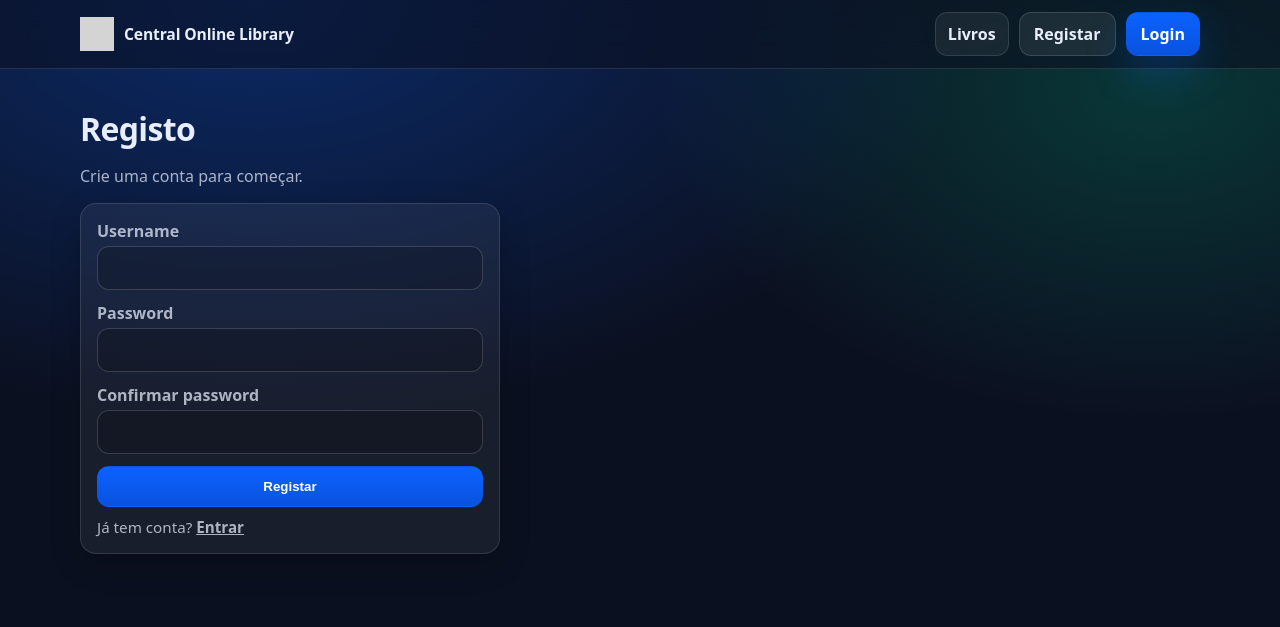
Scenario: Register view › shows friendly message when registration is disabled
Type "alice" into the field labelled "Username" at (290,268), box top-left (97, 246), bottom-right (483, 290)
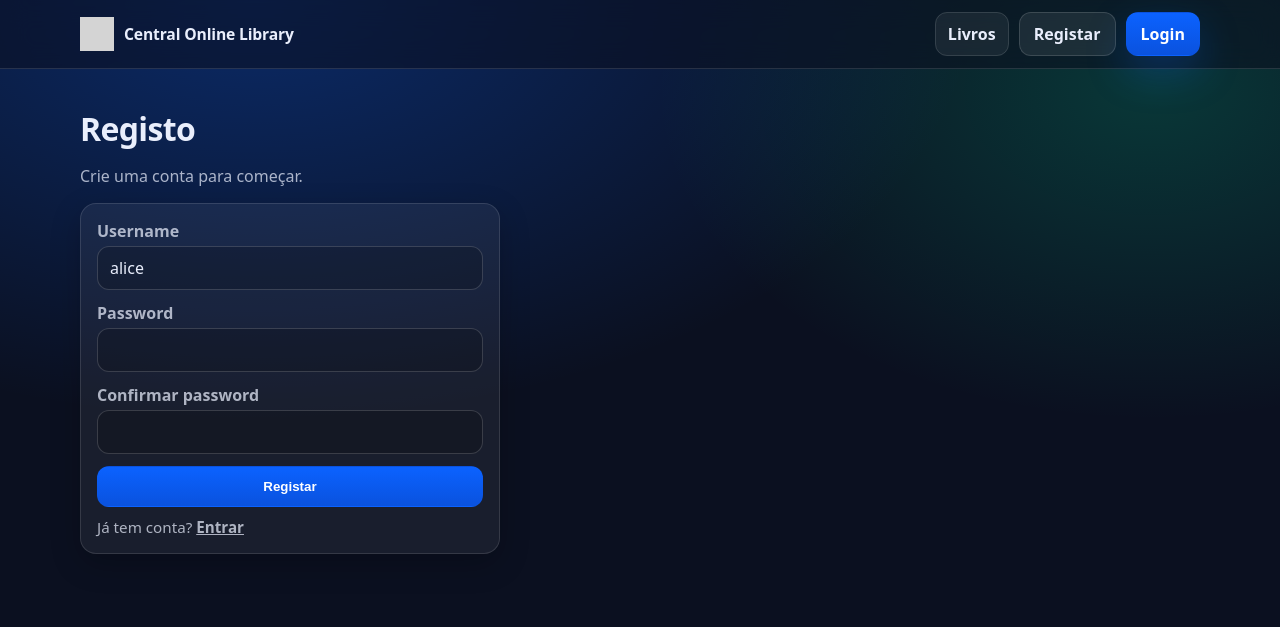
Type "password123" into the password field labelled "Password" at (290,350), box top-left (97, 328), bottom-right (483, 372)
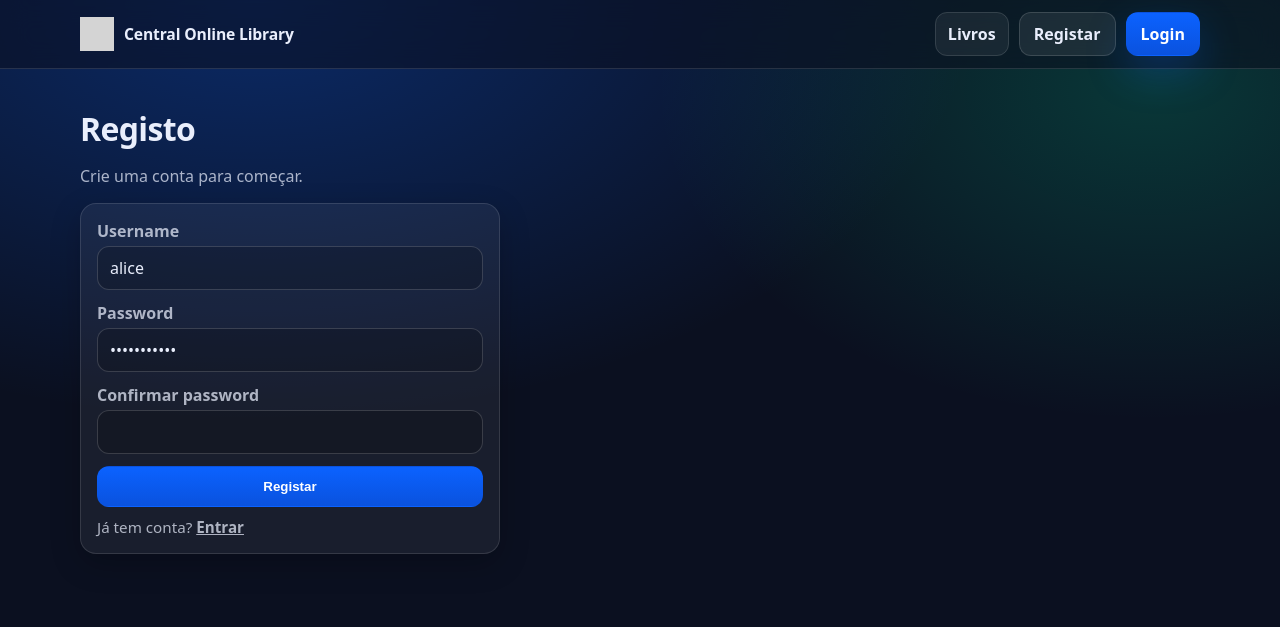
Type "password123" into the password field labelled "Confirmar password" at (290,432), box top-left (97, 410), bottom-right (483, 454)
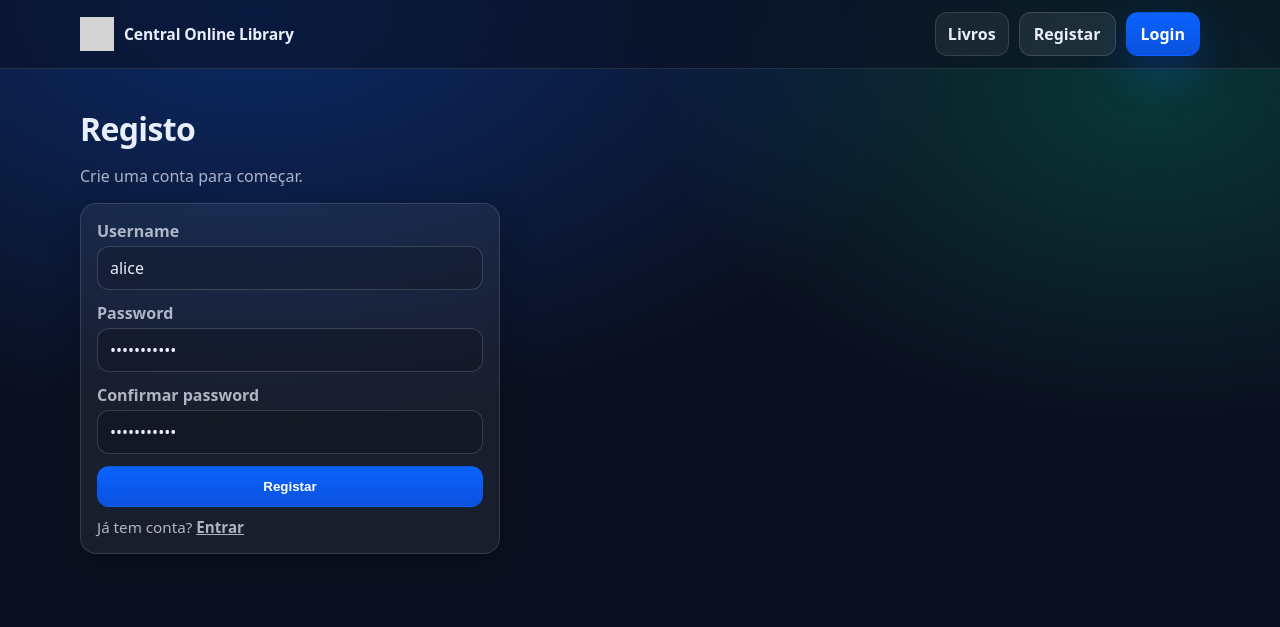
Click the button "Registar" at (290,486), box top-left (97, 466), bottom-right (483, 507)
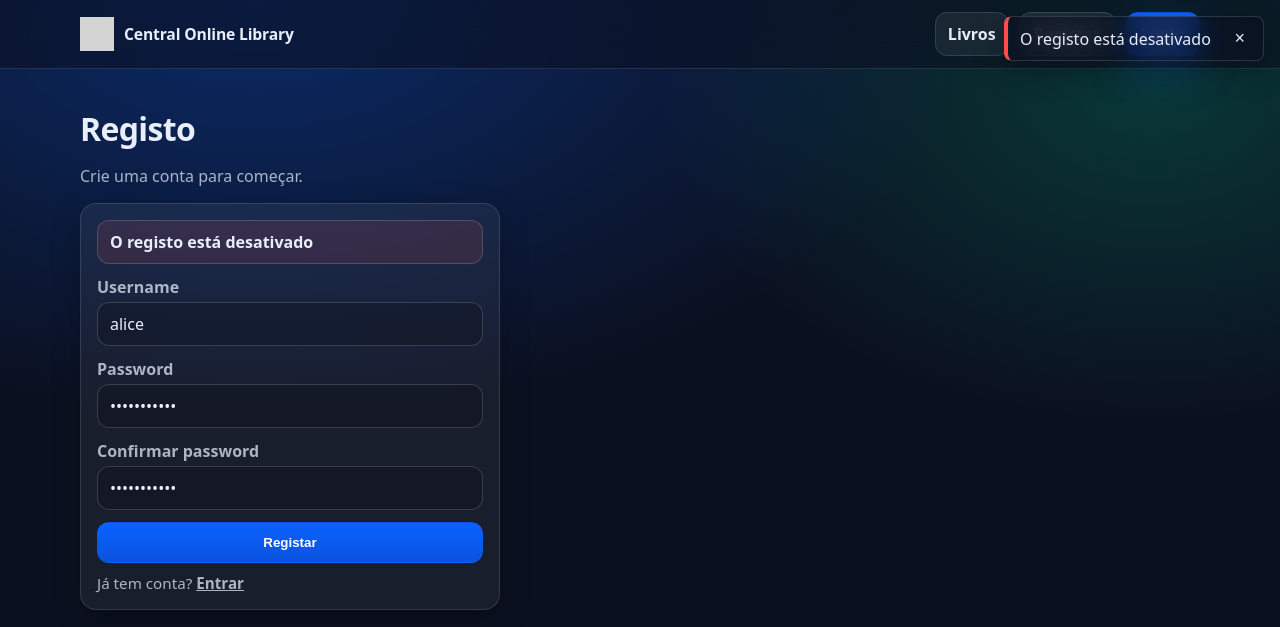
Expected: the message reads "O registo está desativado", top-left (110, 231), bottom-right (313, 253)
